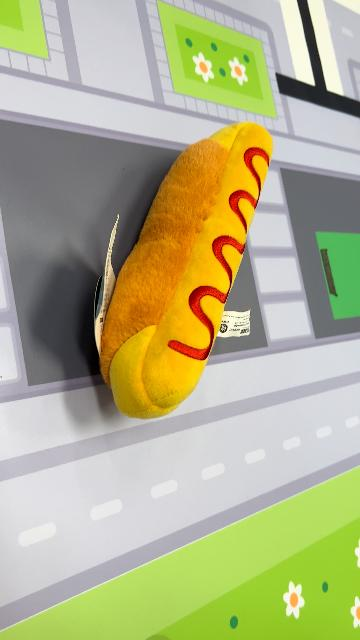hotdog: (97, 126, 275, 422)
